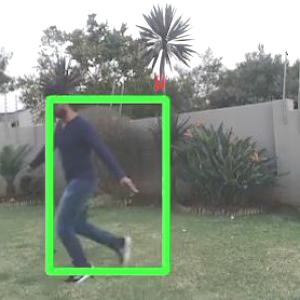land: (18, 85, 140, 284)
